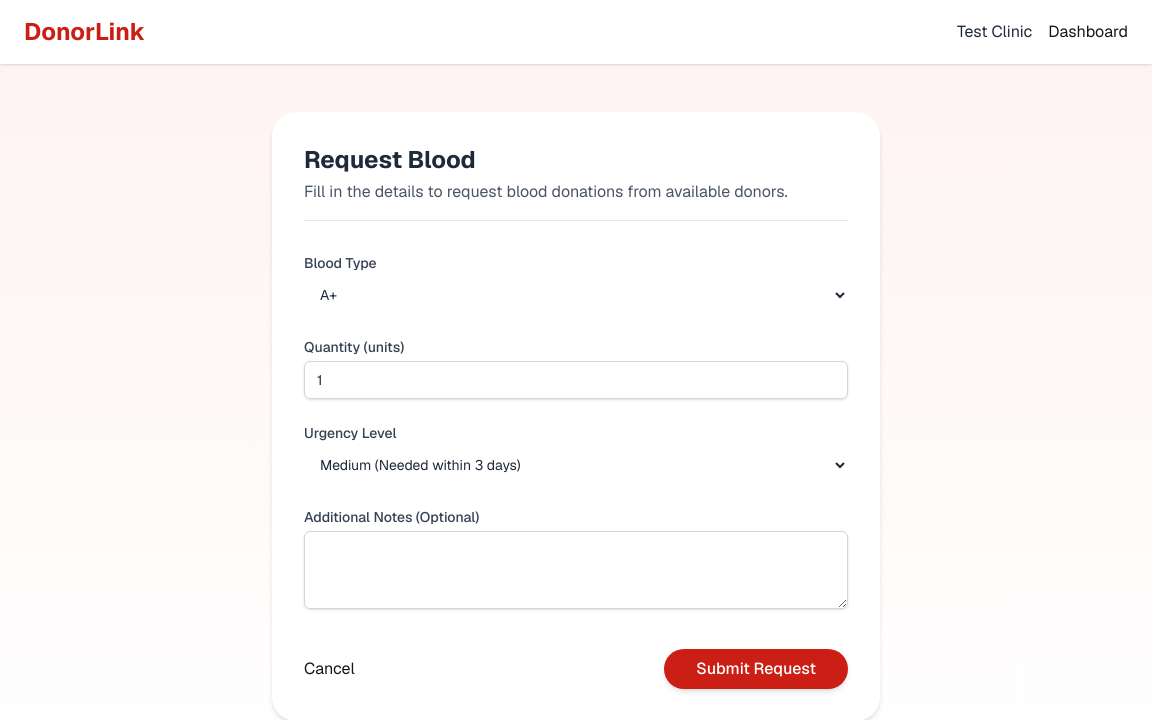
Scenario: RequestBloodPage › handles missing required fields
Note: Submit the form with default values
Click the button "Submit Request" at (756, 669), box [664,649,848,689]
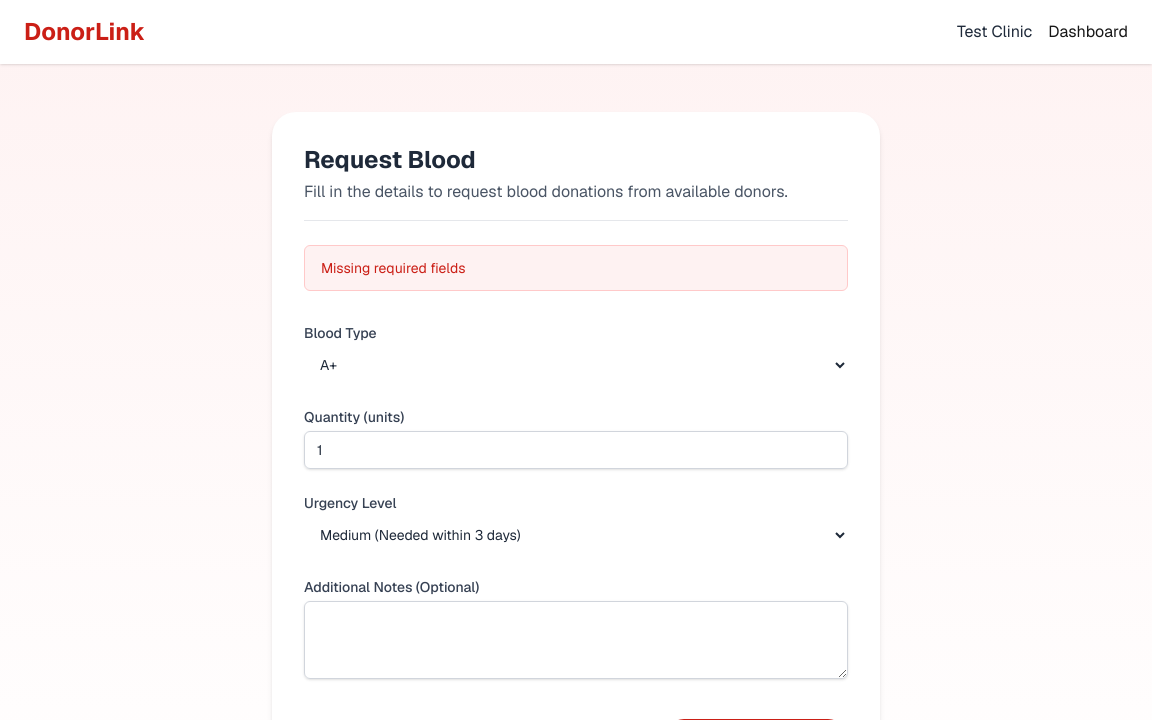
Check: the text "Missing required fields" is shown, box [304,245,848,291]
